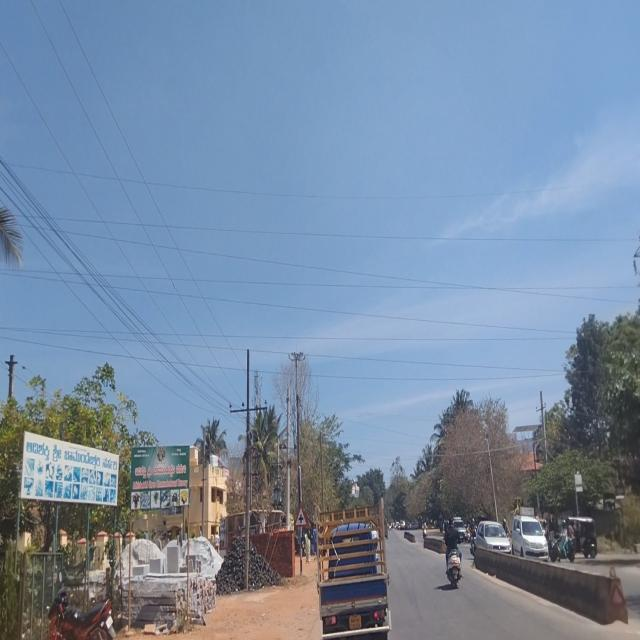bien_cam: (294, 504, 308, 528)
